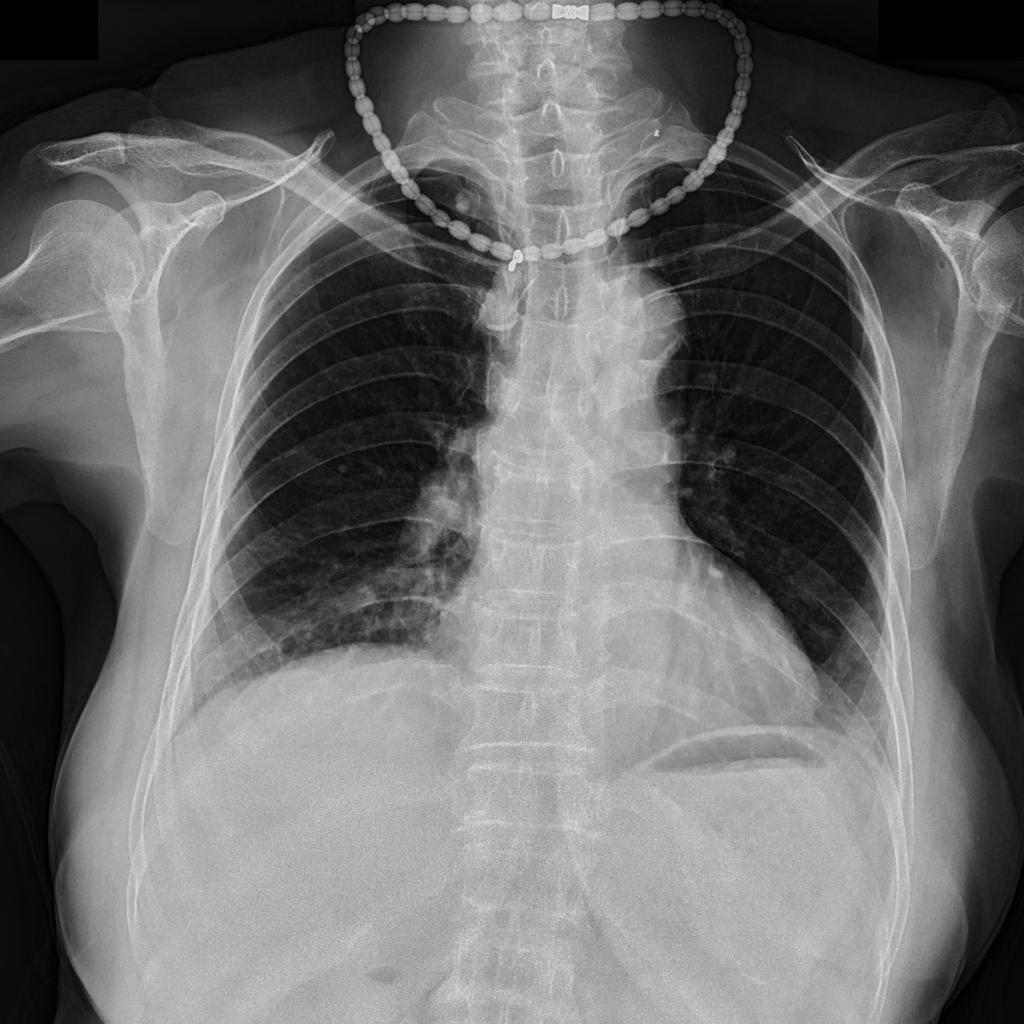Nodule: (456, 193, 471, 217)
